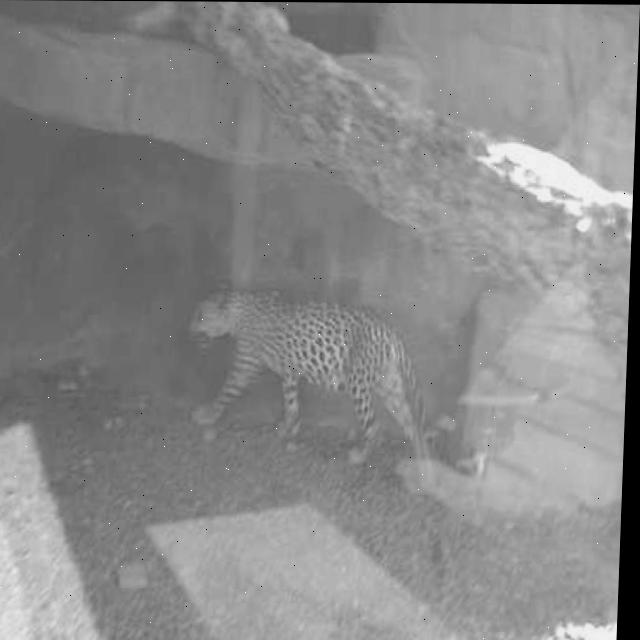Leopard: (167, 208, 478, 471)
